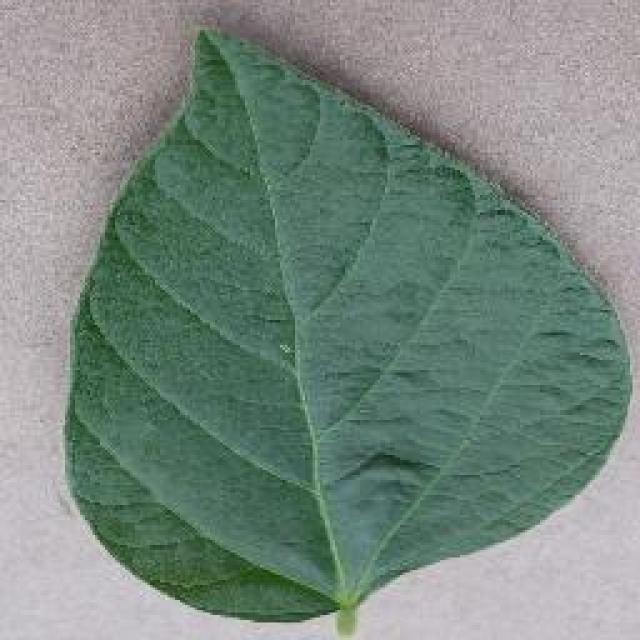Soy_healthy: (85, 72, 550, 553)
